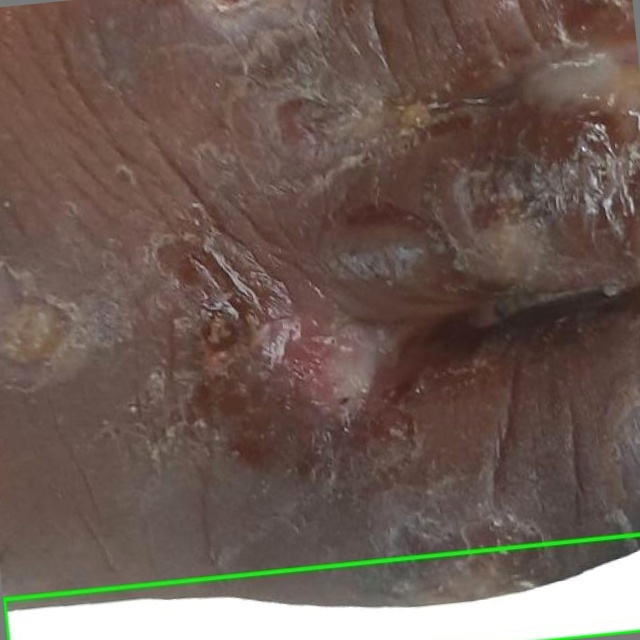Eczema: (4, 534, 639, 639)
